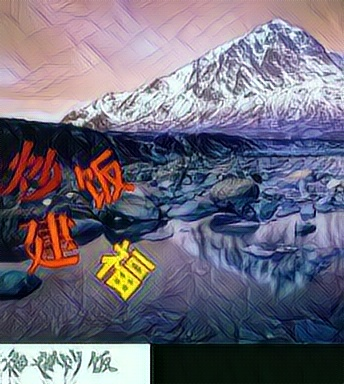B3B4: (4, 139, 65, 204)
B7B9: (74, 146, 135, 211)
B8A3: (93, 235, 154, 300)
BDA8: (20, 210, 81, 275)
